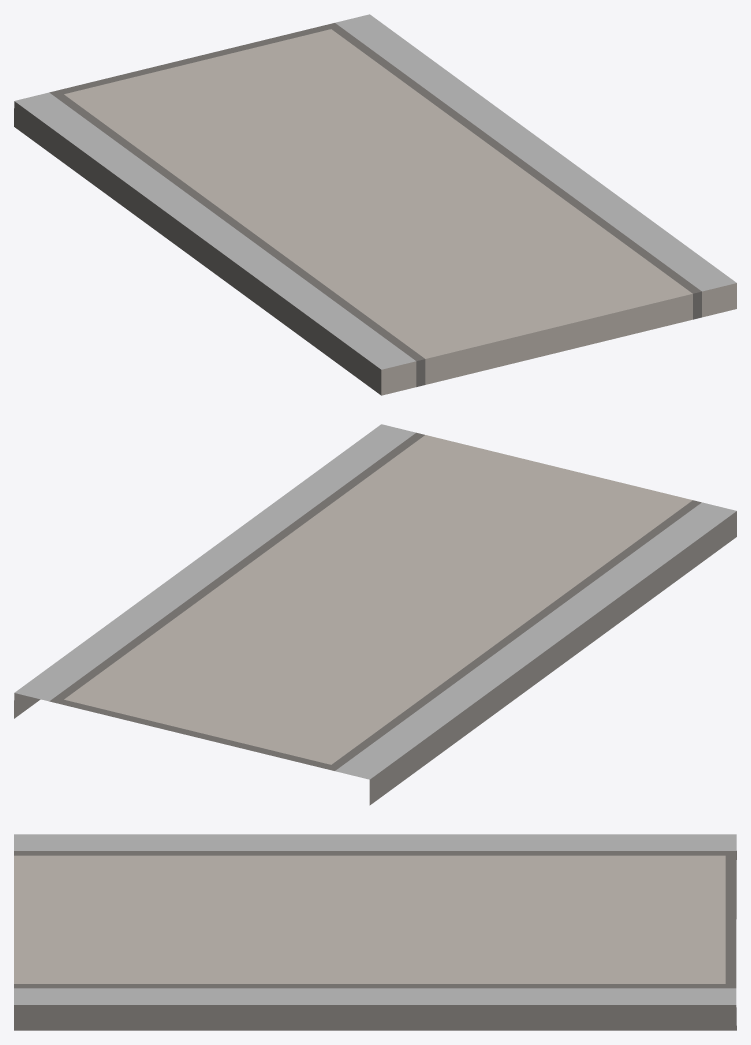
Rendered from SA_Env_Path_Straight_Closed.fbx.
3 views of the same model, one above another, from view 1: azimuth 30°, elevation 25°; view 2: azimuth 150°, elevation 25°; view 3: azimuth 270°, elevation 25° (orthographic).
Visible parts, largest first — view 1: SA_Env_Path_Straight_close; view 2: SA_Env_Path_Straight_close; view 3: SA_Env_Path_Straight_close.
Part boxes in pixels (x1,y1,x2,y2): SA_Env_Path_Straight_close: (14,14,736,395); SA_Env_Path_Straight_close: (14,424,736,805); SA_Env_Path_Straight_close: (14,834,736,1030).
Bounding box in the file's own units: 2.79 × 0.1948 × 5.
1 material, 1 textured.
